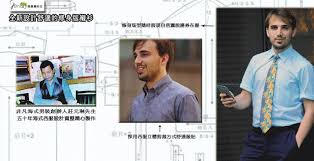F_shirt: (240, 45, 314, 128)
